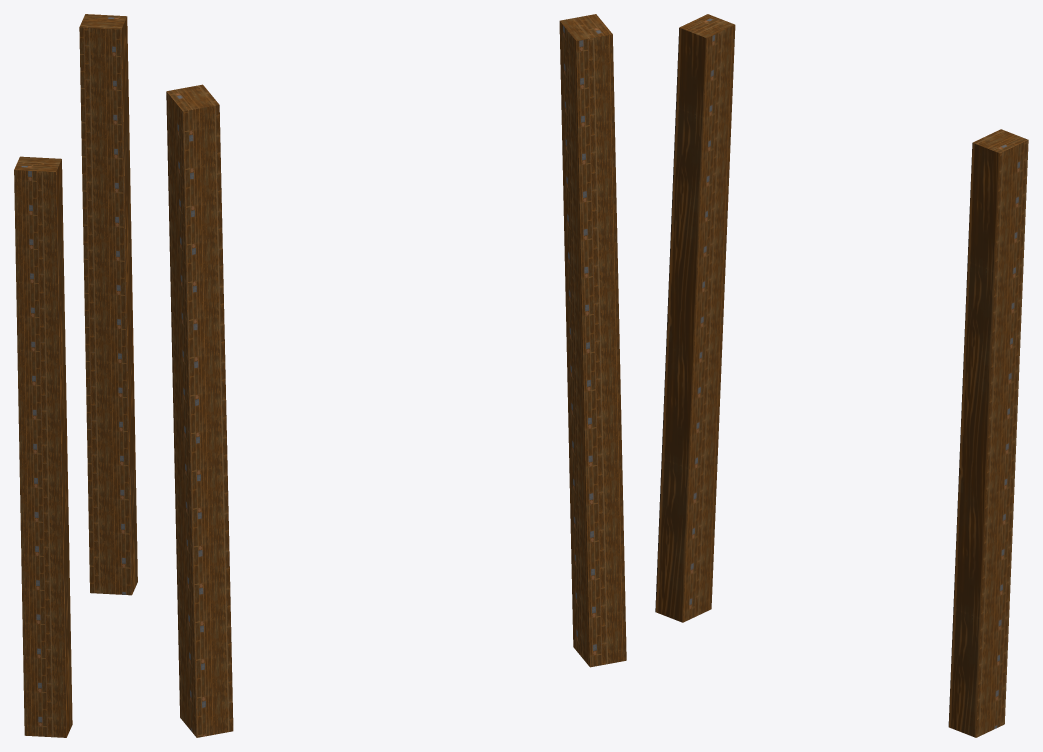
3 views of the same model, side by side, from view 1: azimuth 30°, elevation 25°; view 2: azimuth 150°, elevation 25°; view 3: azimuth 270°, elevation 25° (orthographic). The views are drawn at different scales.
Visible parts, largest first — view 1: Cube.103; view 2: Cube.103; view 3: Cube.103.
Part boxes in pixels (bbox=[...]): Cube.103: bbox=[14, 14, 137, 737]; Cube.103: bbox=[166, 14, 626, 737]; Cube.103: bbox=[655, 14, 1028, 737].
Bounding box in the file's own units: 475 × 1019 × 578.
1 material, 1 textured.
